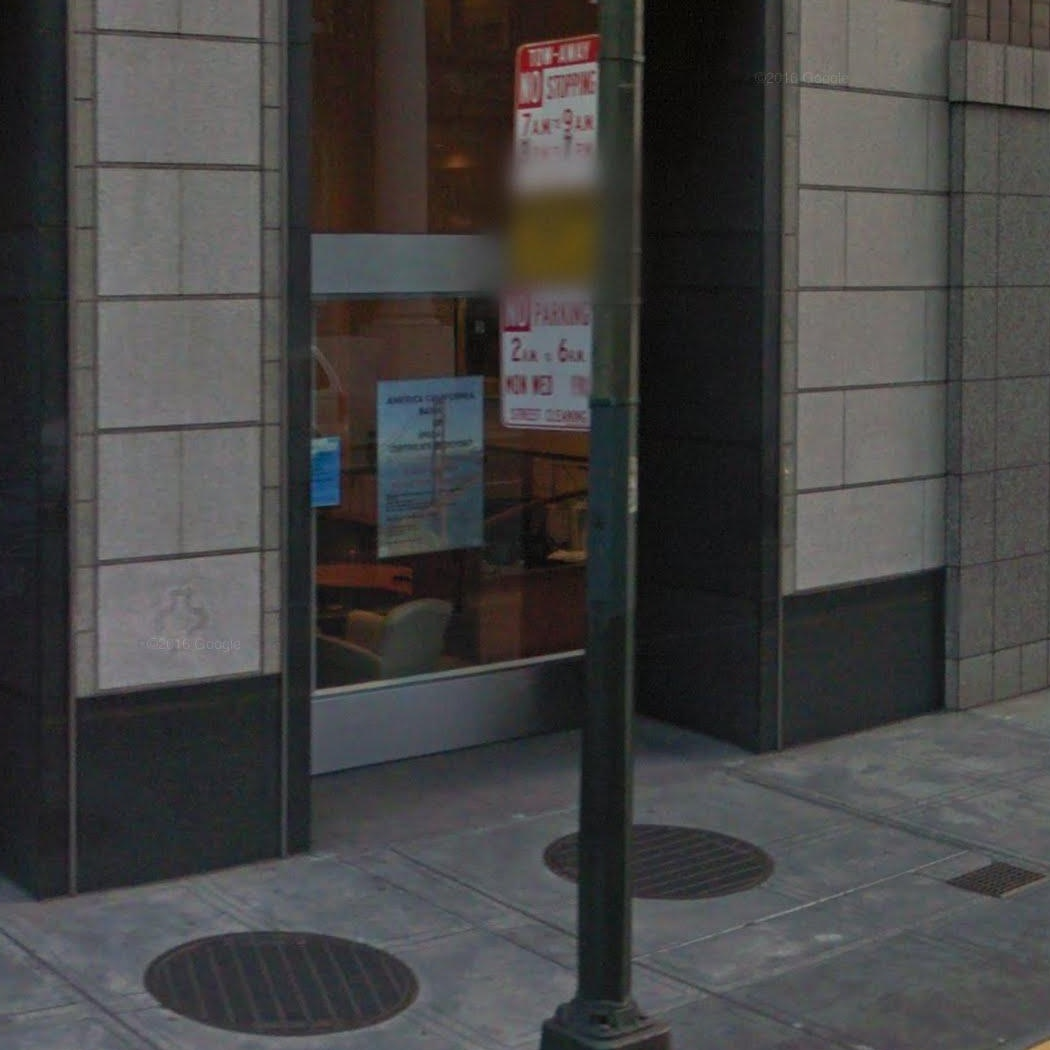No Parking: (496, 279, 597, 434)
